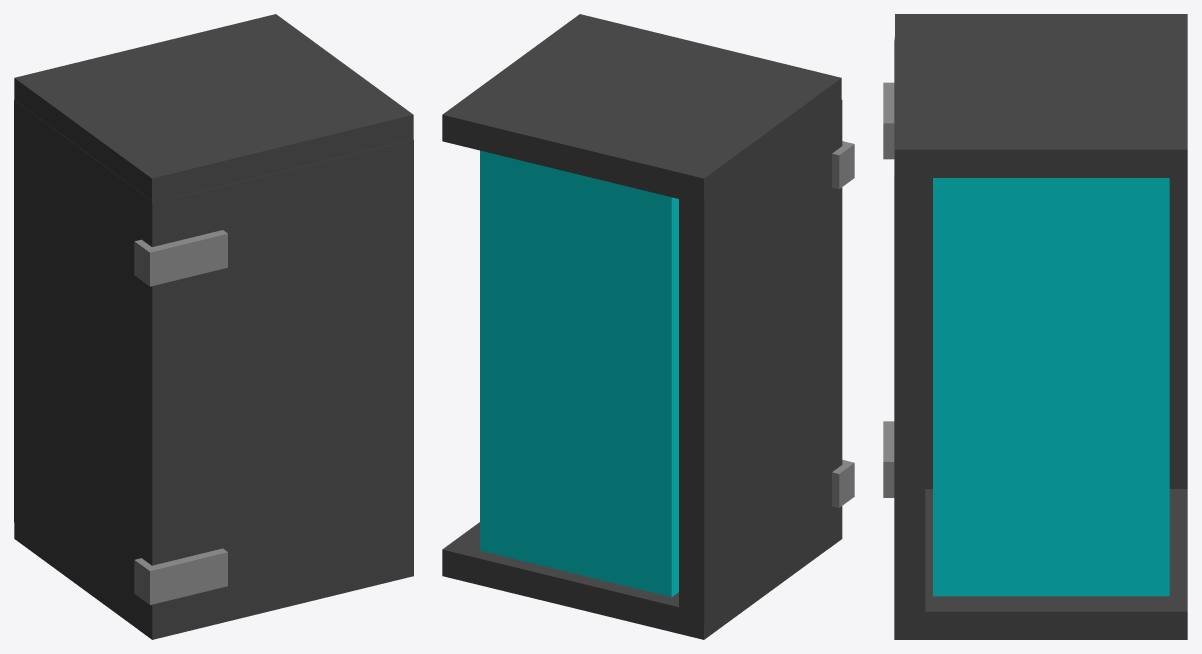
Rendered from lanter.fbx.
3 renders of one model, left to right at view 1: azimuth 30°, elevation 25°; view 2: azimuth 150°, elevation 25°; view 3: azimuth 270°, elevation 25°, orthographic. The views are drawn at different scales.
Visible parts, largest first — view 1: PM3D_Plane3D219_011; view 2: PM3D_Plane3D219_011; view 3: PM3D_Plane3D219_011.
Boxes of the visible parts, x1,y1,x2,y2 form: PM3D_Plane3D219_011: (14,14,413,639); PM3D_Plane3D219_011: (442,14,854,639); PM3D_Plane3D219_011: (883,14,1187,639).
Size of the model in its own units: 31.75 by 52 by 29.26.
